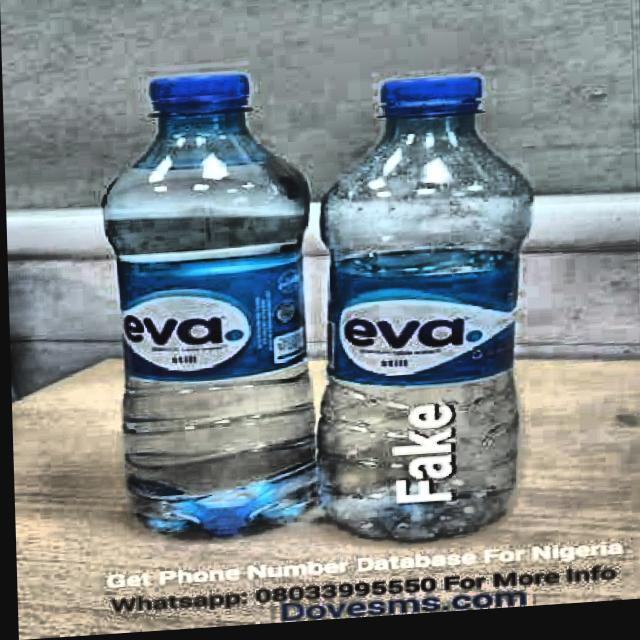Bottles: (305, 34, 540, 566), (98, 45, 310, 553)
